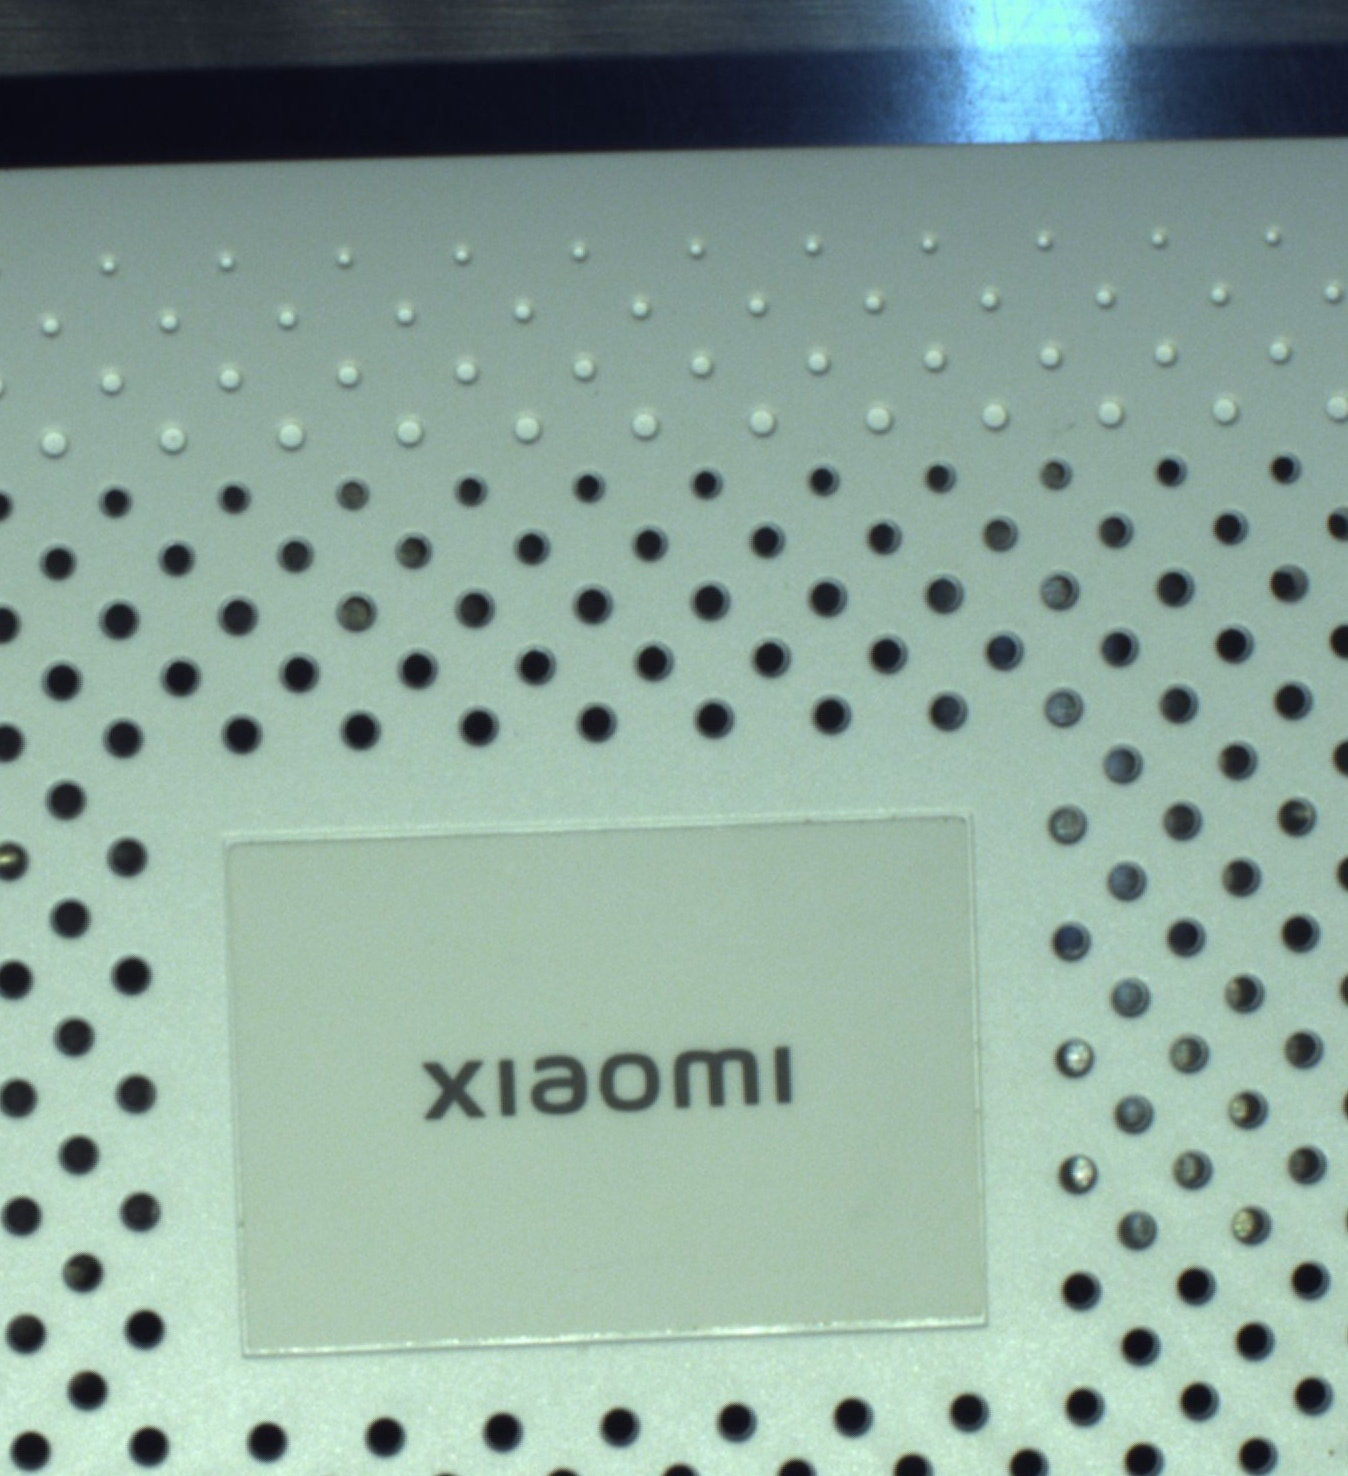MAB_OldUnicom: (410, 1029, 817, 1130)
